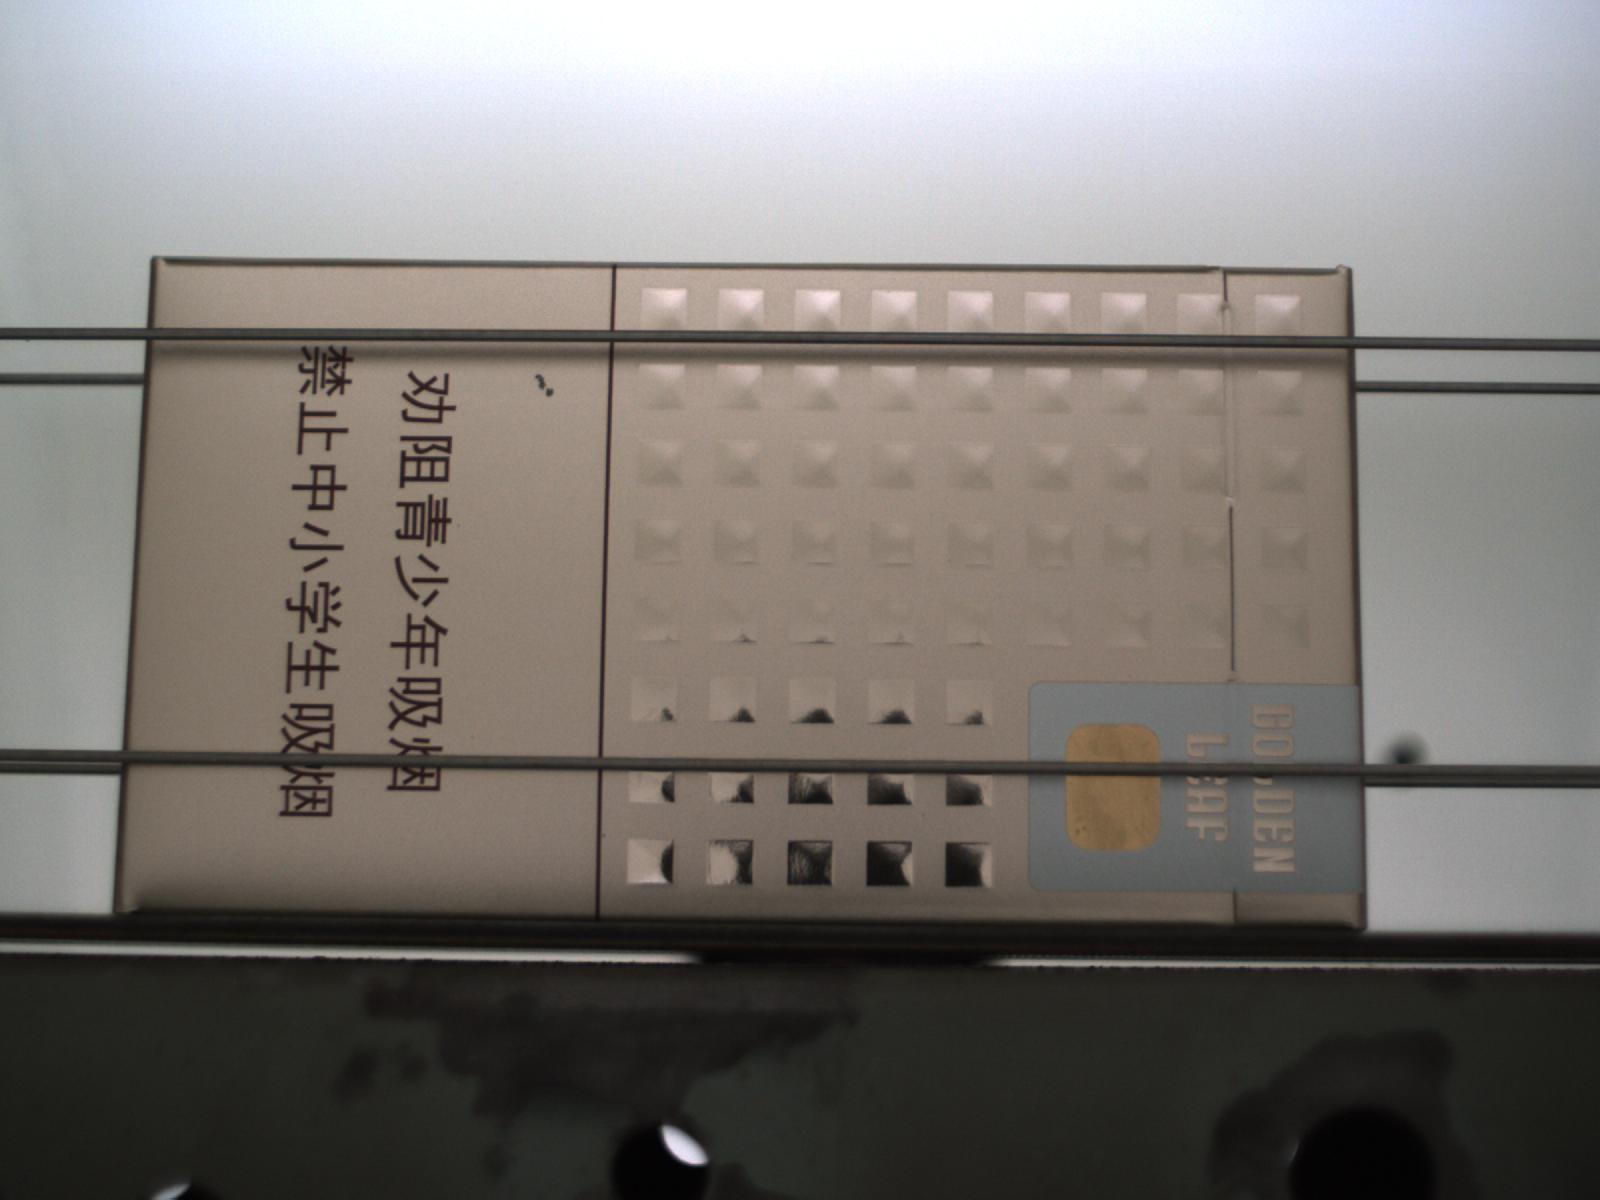dirtyOil: (533, 373, 548, 391), (544, 387, 556, 397)
